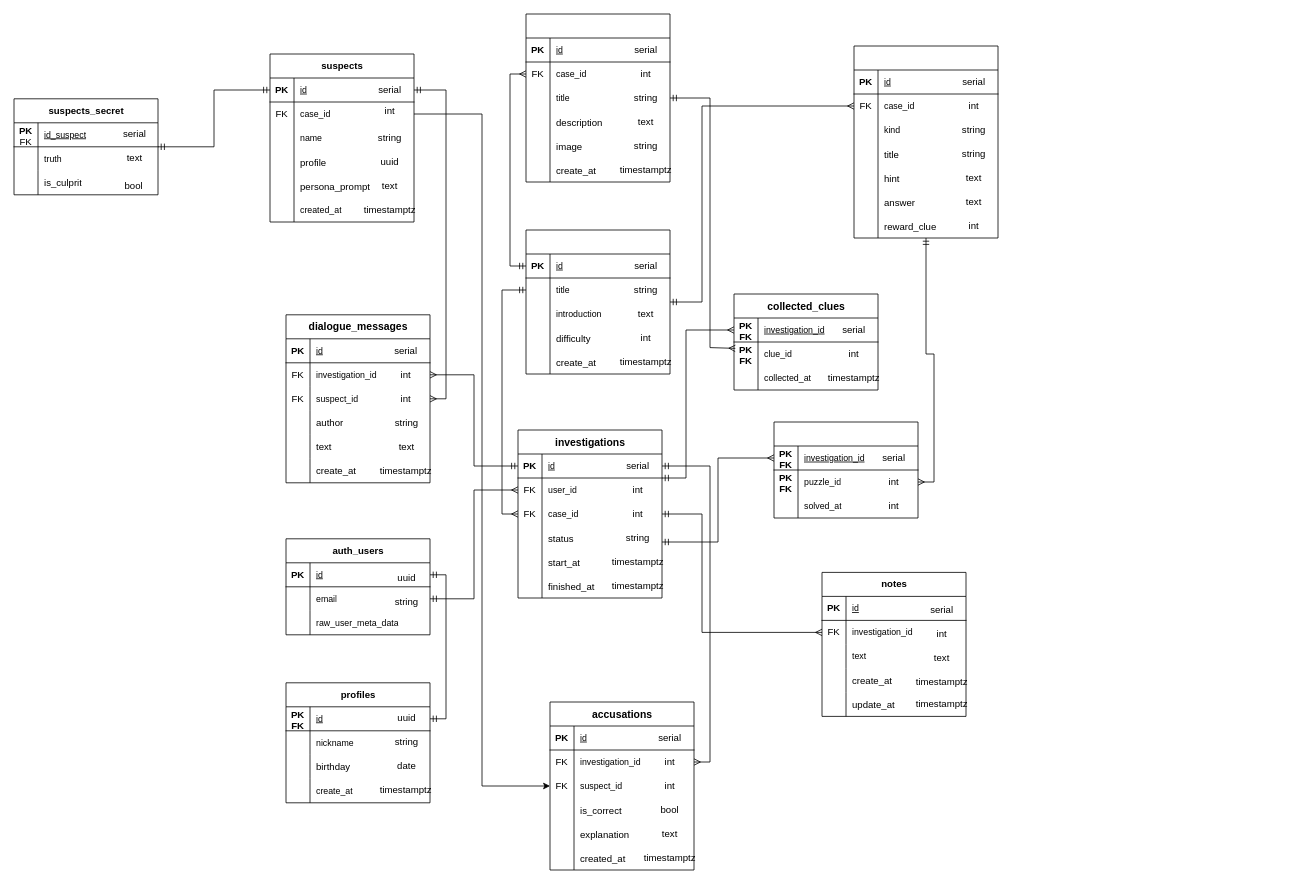
The diagram is 1308 pixels wide and 884 high, and some of its shapes have lost their labels. The shapes that lost their labels are listed below. From the top down, each one's box as (x1, y1, x2, y2) in pixels, then its label:
(525, 13, 670, 182): clues
(853, 45, 998, 238): puzzles
(525, 229, 670, 374): cases
(773, 421, 918, 518): solved_puzzles
